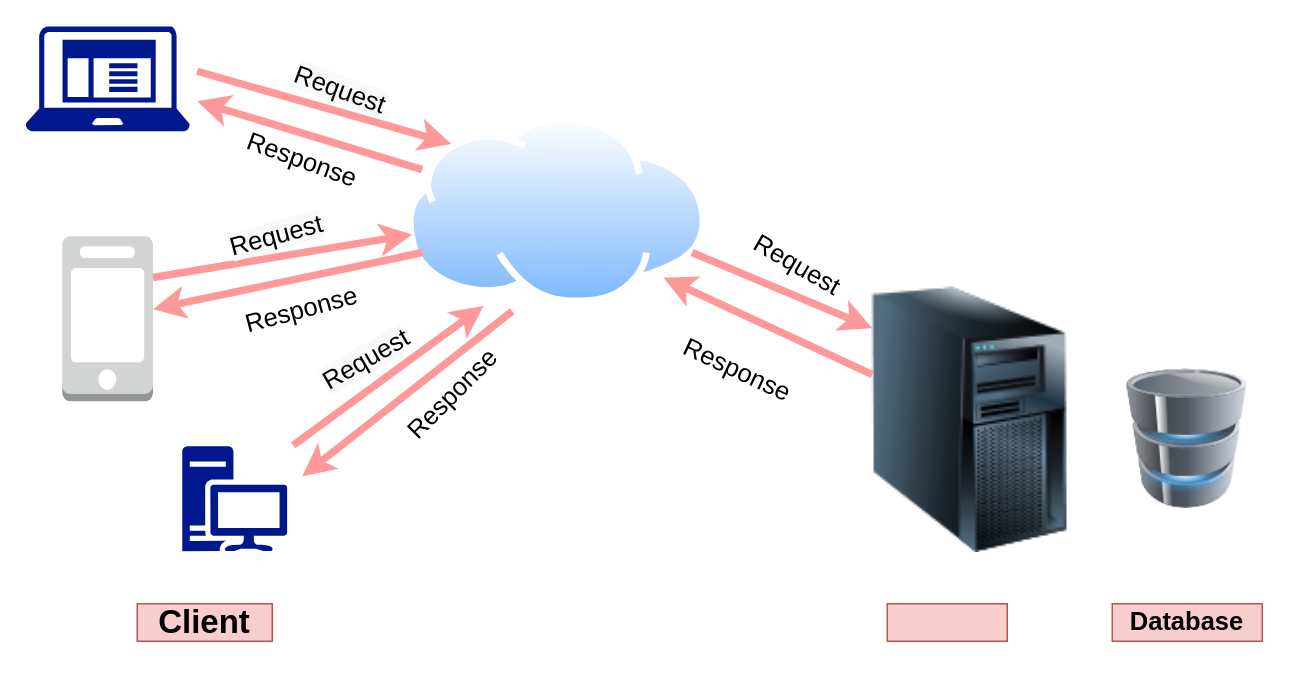
Some shapes in this 1289 by 680 pixel diagram are drawn without their labels. The shapes that lost their labels are listed below. From the top down, each one's centre as x and y in pixels, then its label:
At pixel 556 210: "Internet".
At pixel 946 621: "Server".
